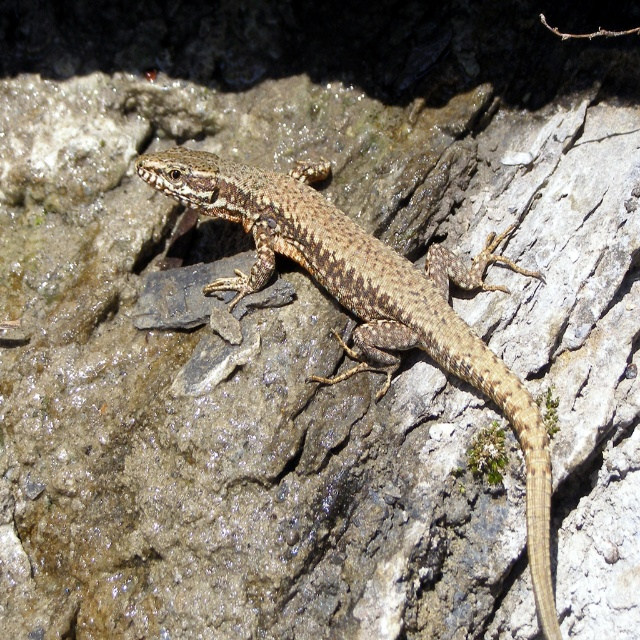Lizard: (138, 155, 556, 639)
